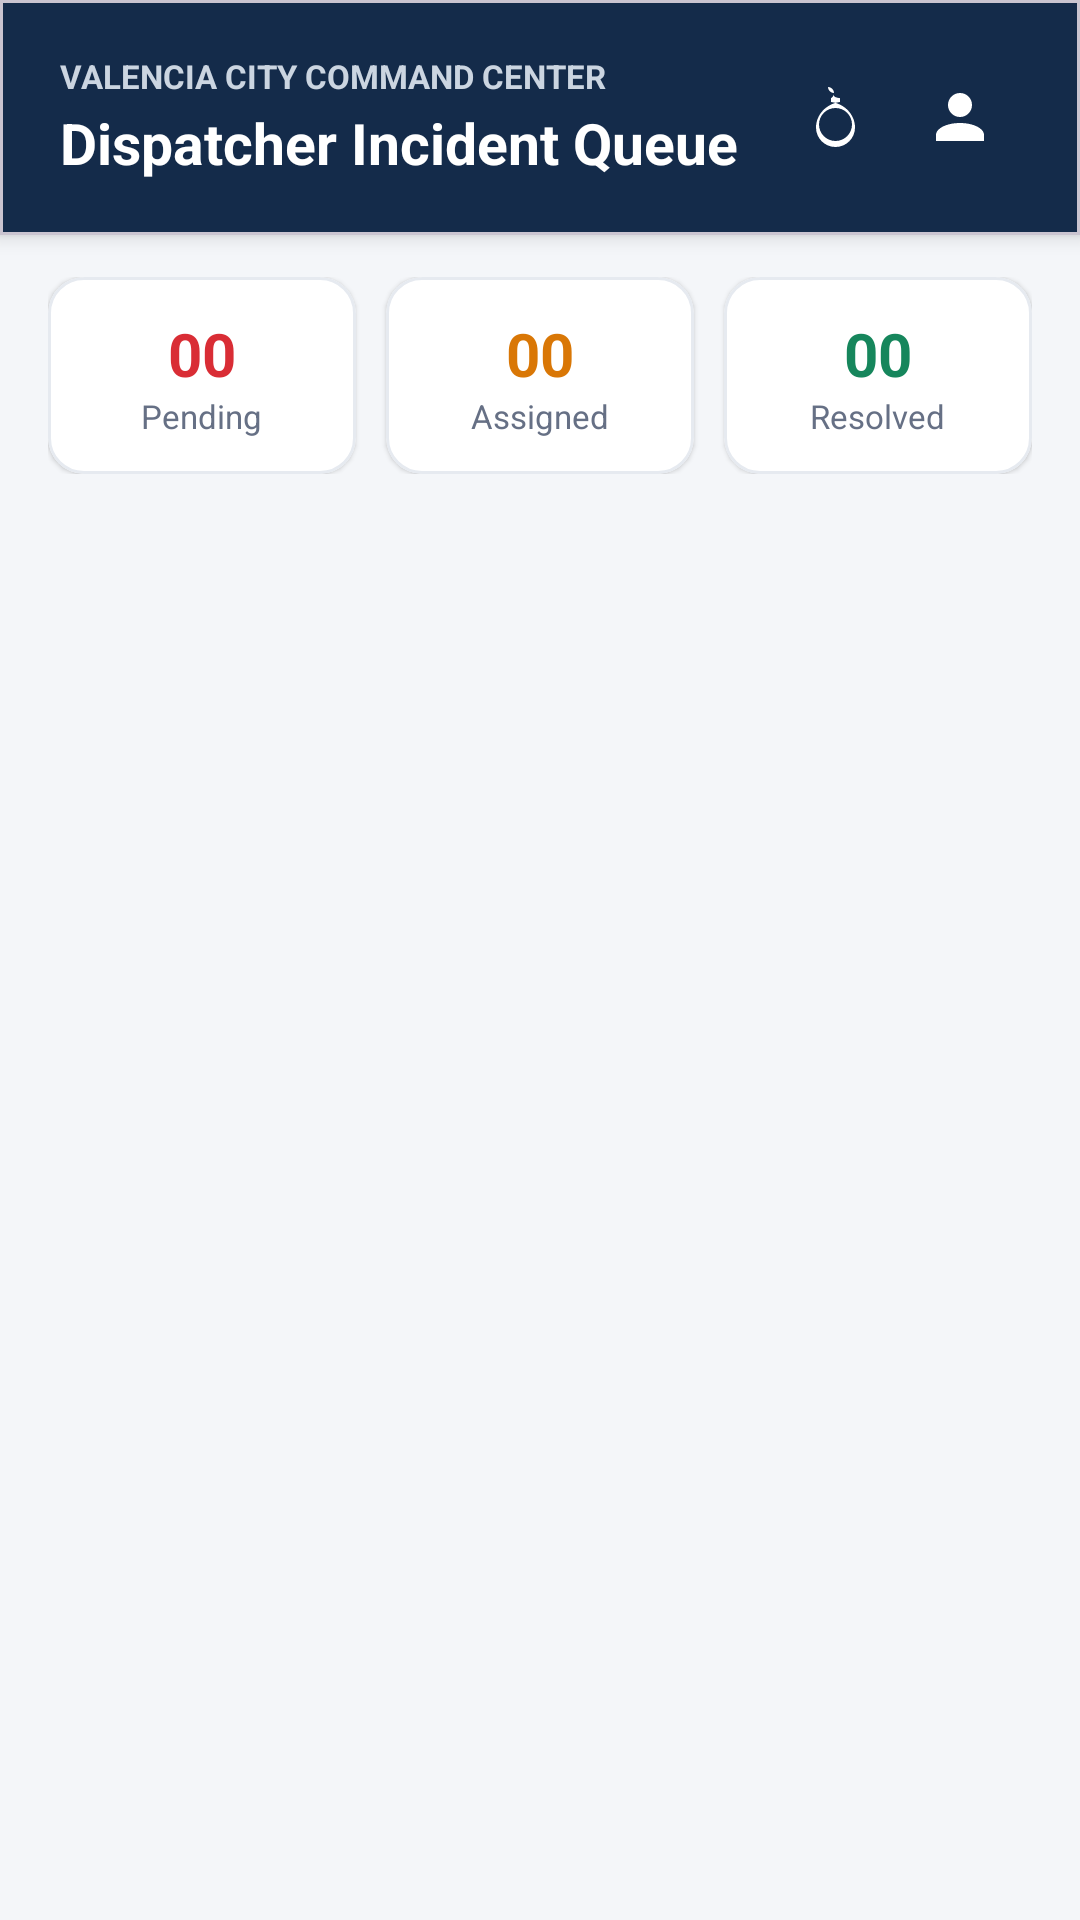

Where to tap for icons on this 1080*1920 app screen, as (x=x, y=y):
Profile: (x=960, y=117)
